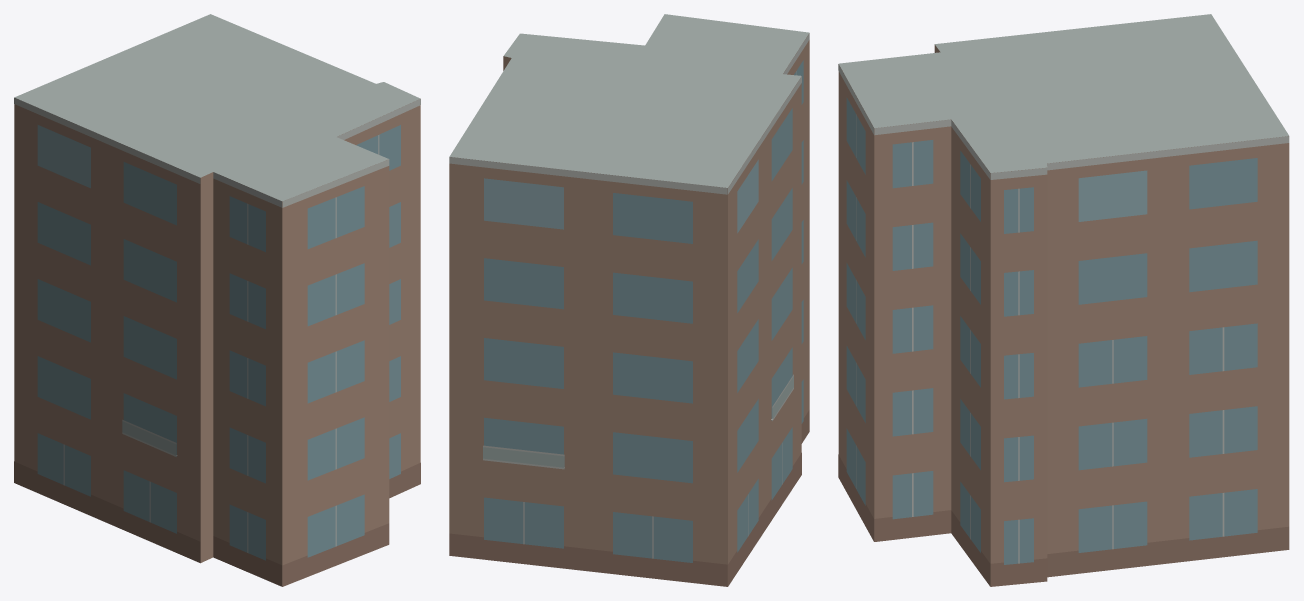
File: survey-upis-32845652.glb
3 views of the same model, side by side, from view 1: azimuth 30°, elevation 25°; view 2: azimuth 150°, elevation 25°; view 3: azimuth 270°, elevation 25° (orthographic). The views are drawn at different scales.
Visible parts, largest first — view 1: survey-upis-32845652.tmp; view 2: survey-upis-32845652.tmp; view 3: survey-upis-32845652.tmp.
Part boxes in pixels (x1,y1,x2,y2): survey-upis-32845652.tmp: (14, 14, 420, 586); survey-upis-32845652.tmp: (449, 14, 809, 586); survey-upis-32845652.tmp: (838, 14, 1289, 586).
Bounding box in the file's own units: 11.92 × 14.45 × 14.28.
